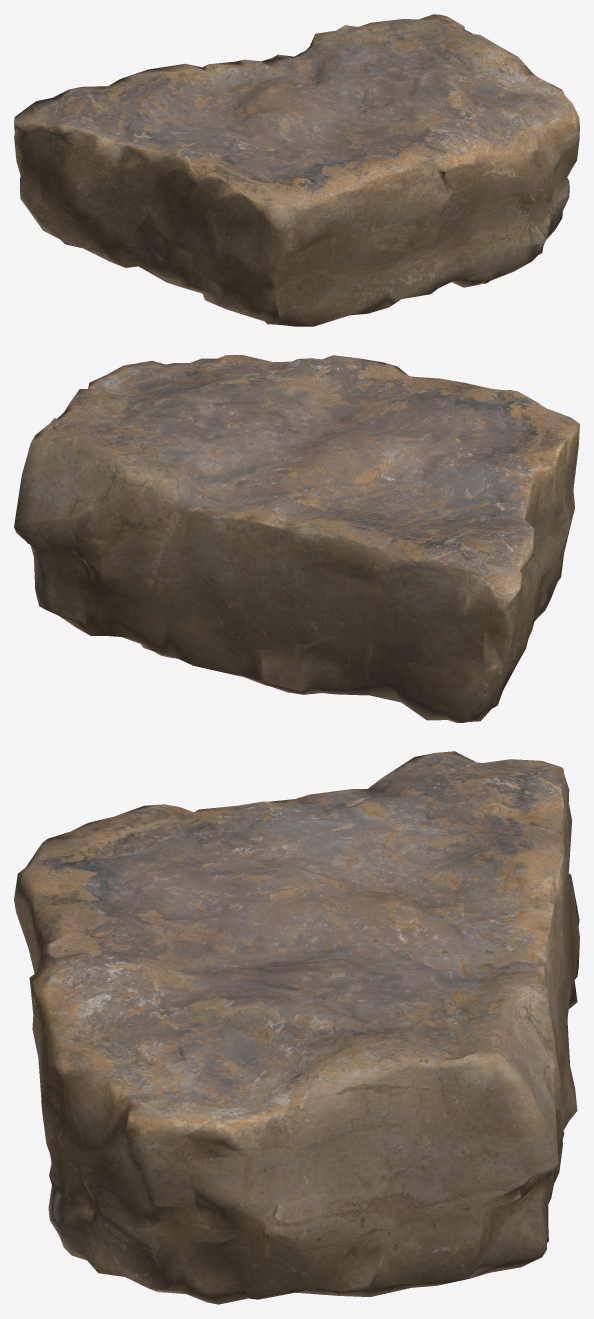
The model's file is vd3meb1_tier_2.gltf.
3 views of the same model, one above another, from view 1: azimuth 30°, elevation 25°; view 2: azimuth 150°, elevation 25°; view 3: azimuth 270°, elevation 25° (orthographic). The views are drawn at different scales.
Visible parts, largest first — view 1: vd3meb1_LOD0_TIER2_000; view 2: vd3meb1_LOD0_TIER2_000; view 3: vd3meb1_LOD0_TIER2_000.
Boxes of the visible parts, x1,y1,x2,y2 form: vd3meb1_LOD0_TIER2_000: (14,14,579,326); vd3meb1_LOD0_TIER2_000: (14,355,579,722); vd3meb1_LOD0_TIER2_000: (14,751,579,1304).
Bounding box in the file's own units: 1.48 × 0.5051 × 0.987.
1 material, 1 textured.
